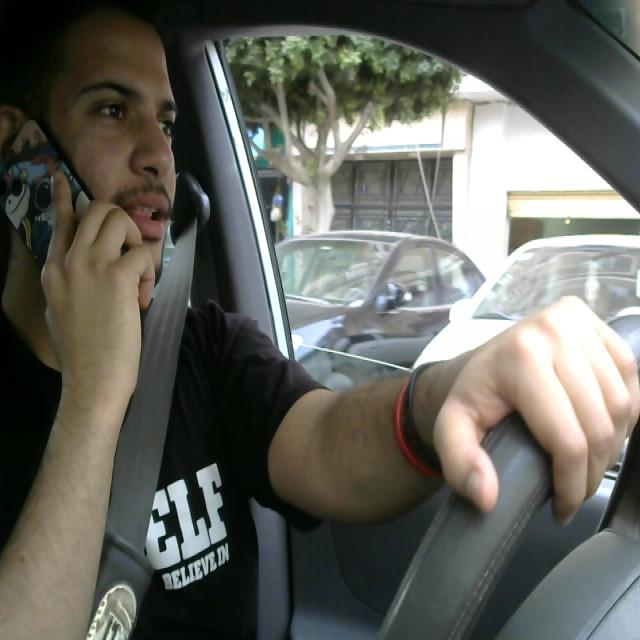mobile use: (1, 109, 117, 332)
